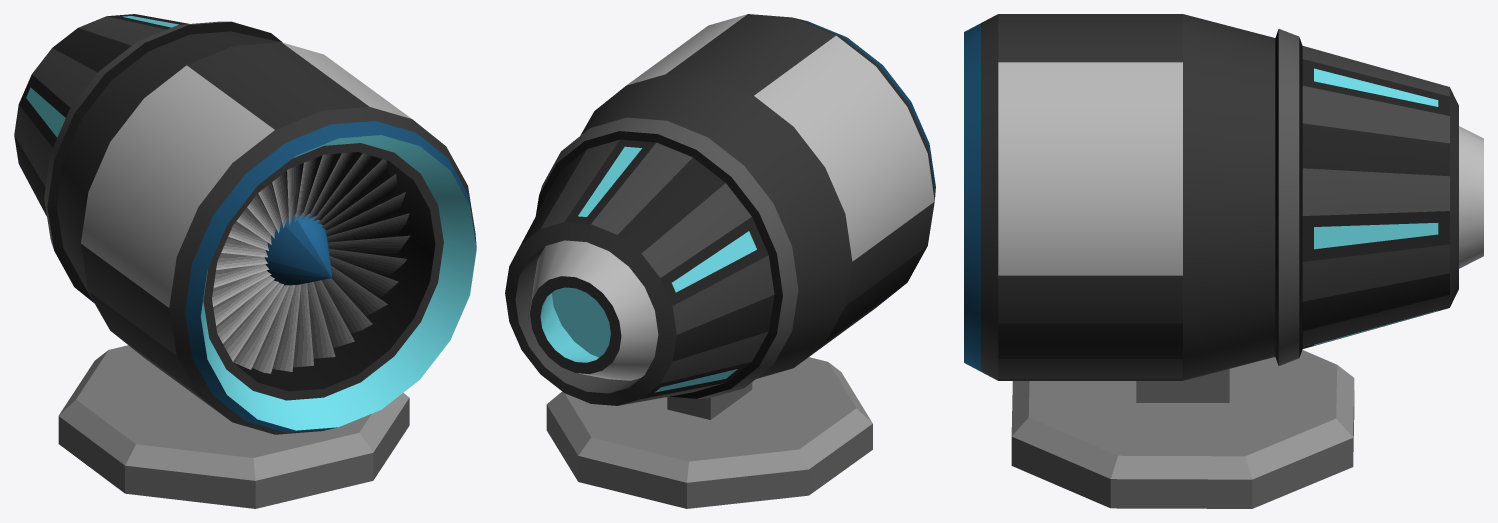
Rendered from Thruster_T_1.fbx.
3 views of the same model, side by side, from view 1: azimuth 30°, elevation 25°; view 2: azimuth 150°, elevation 25°; view 3: azimuth 270°, elevation 25° (orthographic). The views are drawn at different scales.
Visible parts, largest first — view 1: Thruster_T1, Thruster_Blades; view 2: Thruster_T1; view 3: Thruster_T1.
Boxes of the visible parts, box(x1,y1,x2,y2) form: Thruster_T1: box(14, 14, 476, 508); Thruster_Blades: box(212, 152, 410, 373); Thruster_T1: box(505, 14, 935, 508); Thruster_T1: box(964, 14, 1483, 508).
Size of the model in its own units: 200 by 243 by 281.
